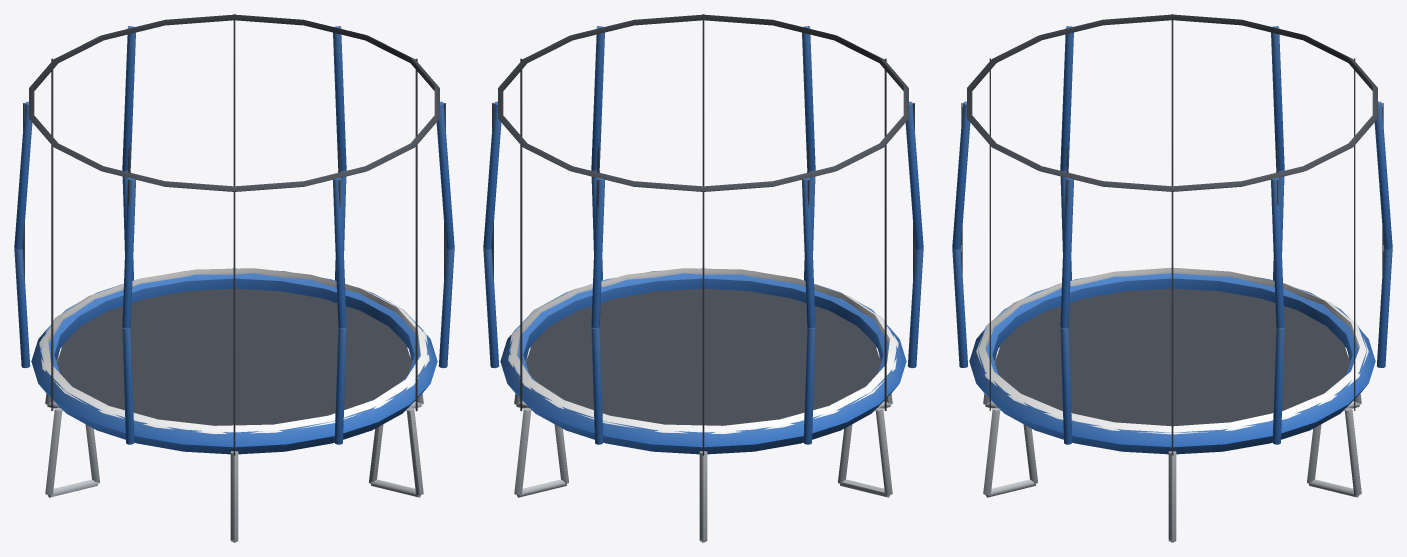
File: ck_trampoline.fbx
3 renders of one model, left to right at view 1: azimuth 30°, elevation 25°; view 2: azimuth 150°, elevation 25°; view 3: azimuth 270°, elevation 25°, orthographic.
Parts seen in each view (by area): view 1: ck_trampoline; view 2: ck_trampoline; view 3: ck_trampoline.
Boxes of the visible parts, box(x1,y1,x2,y2) form: ck_trampoline: box(14, 14, 454, 542); ck_trampoline: box(483, 14, 923, 542); ck_trampoline: box(952, 14, 1392, 542).
Size of the model in its own units: 972 by 864 by 980.
